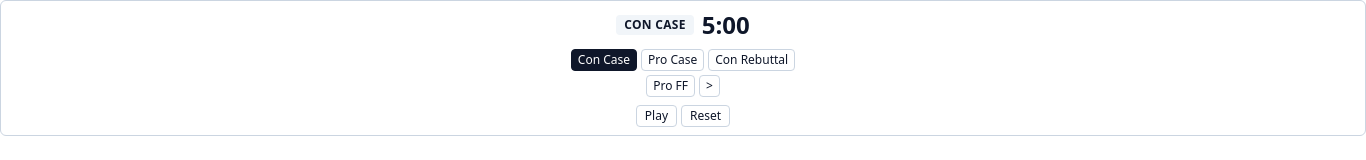
Test: SpeechTimer › uses round-supplied speech labels for the selector when given
The image size is (1366, 160).
Expected: the text with test id "speech-label" reads "Con Case", [624,16,686,33]
Expected: the button "Con Case" is shown, [571,49,637,71]
Click the button "Con Rebuttal".
click(752, 60)  # box [708,49,795,71]
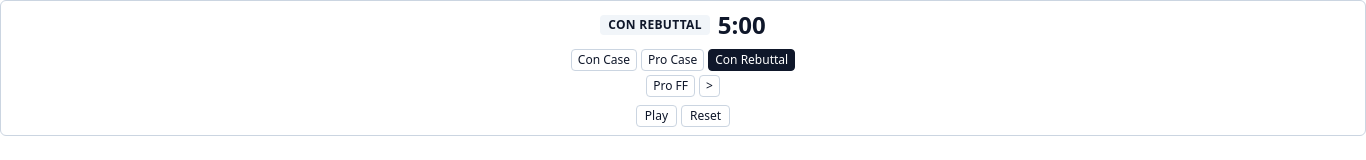
Expected: the text with test id "speech-label" reads "Con Rebuttal", [608,16,702,33]
Click the button named "advance to next speech".
click(709, 86)  # box [699,75,720,97]
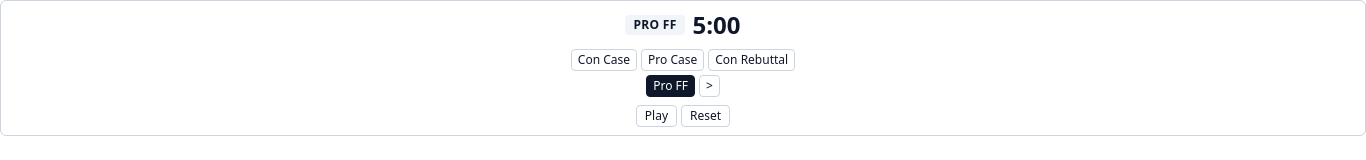
Expected: the text with test id "speech-label" reads "Pro FF", [633,16,676,33]
Click the button named "advance to next speech".
click(709, 86)  # box [699,75,720,97]
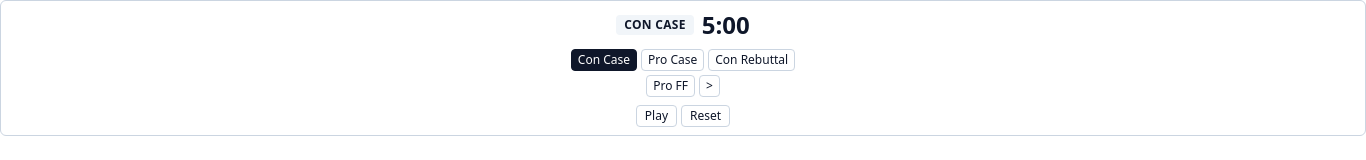
Expected: the text with test id "speech-label" reads "Con Case", [624,16,686,33]
